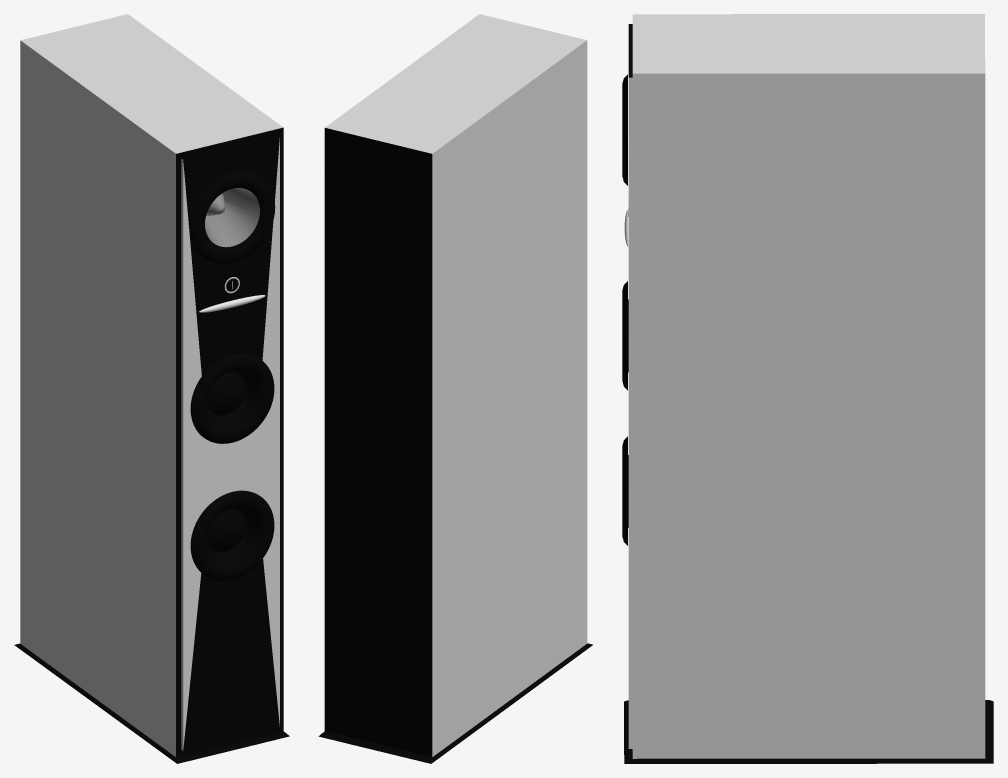
Rendered from speaker-tower-white.glb.
3 views of the same model, side by side, from view 1: azimuth 30°, elevation 25°; view 2: azimuth 150°, elevation 25°; view 3: azimuth 270°, elevation 25° (orthographic). The views are drawn at different scales.
Visible parts, largest first — view 1: White Speaker_Plastico negro_0; view 2: White Speaker_Plastico negro_0; view 3: White Speaker_Plastico negro_0.
Boxes of the visible parts, <box> form: White Speaker_Plastico negro_0: <box>14,14,289,763</box>; White Speaker_Plastico negro_0: <box>318,14,592,763</box>; White Speaker_Plastico negro_0: <box>622,14,993,763</box>.
Bounding box in the file's own units: 0.2105 × 1.08 × 0.5271.
1 material, 1 textured.
